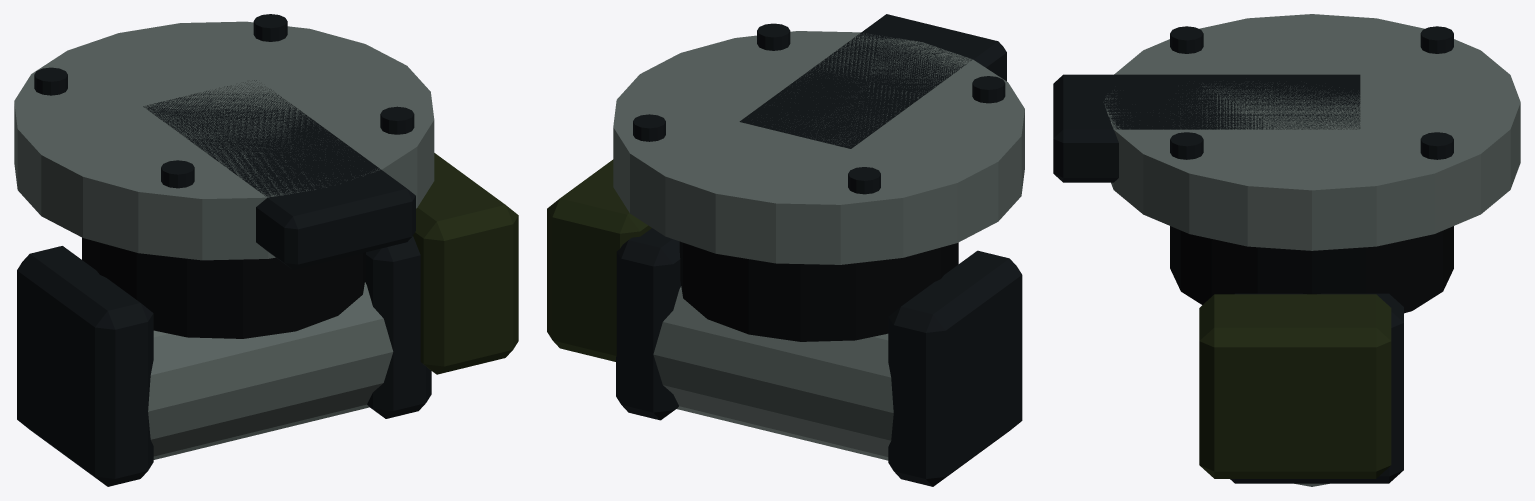
The model's file is ChinMount.obj.
3 views of the same model, side by side, from view 1: azimuth 30°, elevation 25°; view 2: azimuth 150°, elevation 25°; view 3: azimuth 270°, elevation 25° (orthographic). The views are drawn at different scales.
Visible parts, largest first — view 1: Fixed_fuselage_ring, Elevation_cheek, Mount_lug, Pitch_drum, Elevation_servo, Yaw_motor, Elevation_cheek.001, Fixed_ring_fastener.003, Fixed_ring_fastener.002, Fixed_ring_fastener, Fixed_ring_fastener.001; view 2: Fixed_fuselage_ring, Elevation_cheek, Pitch_drum, Yaw_motor, Mount_lug, Elevation_servo, Elevation_cheek.001, Fixed_ring_fastener.002, Fixed_ring_fastener, Fixed_ring_fastener.003, Fixed_ring_fastener.001; view 3: Fixed_fuselage_ring, Elevation_servo, Mount_lug, Yaw_motor, Elevation_cheek.001, Fixed_ring_fastener, Fixed_ring_fastener.001, Fixed_ring_fastener.003, Fixed_ring_fastener.002.
Part boxes in pixels (left/top/right/bottom): Fixed_fuselage_ring: left=14, top=21, right=434, bottom=260; Elevation_cheek: left=17, top=246, right=153, bottom=486; Mount_lug: left=143, top=80, right=415, bottom=269; Pitch_drum: left=148, top=282, right=393, bottom=459; Elevation_servo: left=413, top=153, right=518, bottom=374; Yaw_motor: left=82, top=237, right=365, bottom=338; Elevation_cheek.001: left=365, top=236, right=431, bottom=418; Fixed_ring_fastener.003: left=253, top=14, right=287, bottom=41; Fixed_ring_fastener.002: left=380, top=106, right=414, bottom=134; Fixed_ring_fastener: left=161, top=160, right=194, bottom=188; Fixed_ring_fastener.001: left=34, top=67, right=67, bottom=95; Fixed_fuselage_ring: left=613, top=31, right=1024, bottom=264; Elevation_cheek: left=888, top=250, right=1022, bottom=486; Pitch_drum: left=653, top=286, right=893, bottom=460; Yaw_motor: left=679, top=241, right=958, bottom=341; Mount_lug: left=739, top=14, right=1006, bottom=148; Elevation_servo: left=547, top=159, right=651, bottom=361; Elevation_cheek.001: left=616, top=228, right=680, bottom=420; Fixed_ring_fastener.002: left=757, top=23, right=790, bottom=50; Fixed_ring_fastener: left=972, top=76, right=1005, bottom=103; Fixed_ring_fastener.003: left=633, top=114, right=665, bottom=141; Fixed_ring_fastener.001: left=848, top=167, right=880, bottom=194; Fixed_fuselage_ring: left=1103, top=14, right=1520, bottom=250; Elevation_servo: left=1199, top=294, right=1391, bottom=478; Mount_lug: left=1053, top=74, right=1360, bottom=182; Yaw_motor: left=1170, top=226, right=1453, bottom=313; Elevation_cheek.001: left=1230, top=293, right=1403, bottom=483; Fixed_ring_fastener: left=1170, top=26, right=1203, bottom=53; Fixed_ring_fastener.001: left=1420, top=26, right=1453, bottom=53; Fixed_ring_fastener.003: left=1420, top=132, right=1453, bottom=159; Fixed_ring_fastener.002: left=1170, top=132, right=1203, bottom=159.
Bounding box in the file's own units: 0.585 × 0.441 × 0.56.
